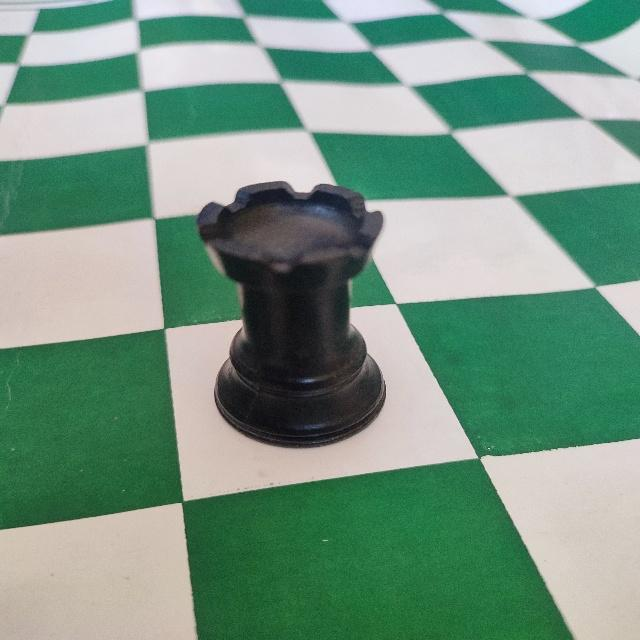Rook: (190, 174, 394, 452)
